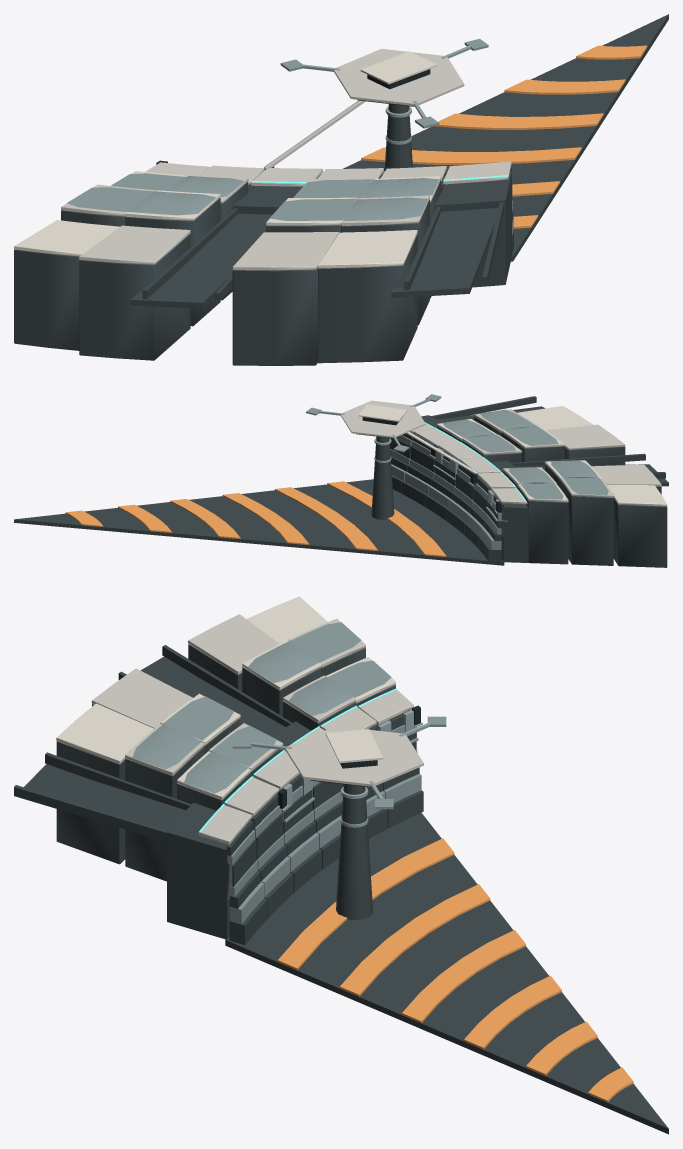
The model's file is Weather_Lung_Sector_07_Structure.glb.
3 renders of one model, top to bottom at view 1: azimuth 30°, elevation 25°; view 2: azimuth 150°, elevation 25°; view 3: azimuth 270°, elevation 25°, orthographic. The views are drawn at different scales.
Parts seen in each view (by area): view 1: Weather_Lung_Sector_07_Structure; view 2: Weather_Lung_Sector_07_Structure; view 3: Weather_Lung_Sector_07_Structure.
Boxes of the visible parts, x1,y1,x2,y2 form: Weather_Lung_Sector_07_Structure: [14, 14, 668, 365]; Weather_Lung_Sector_07_Structure: [14, 394, 668, 567]; Weather_Lung_Sector_07_Structure: [14, 596, 668, 1134].
Bounding box in the file's own units: 11295 × 2121 × 7289.
